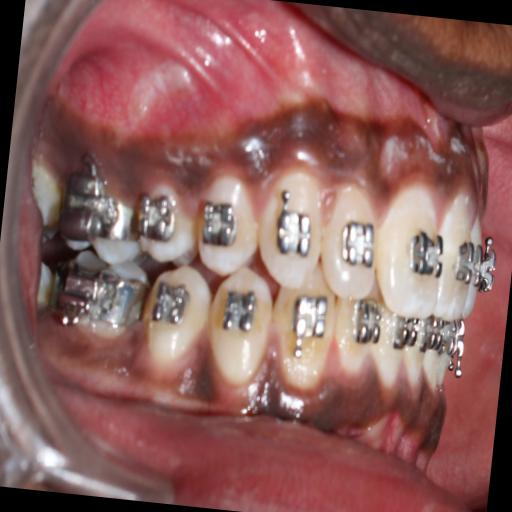correct_brace: (194, 169, 262, 273), (334, 217, 380, 274), (406, 224, 446, 278), (274, 206, 314, 260)
incorrect_brace: (321, 178, 384, 303), (194, 196, 242, 252)
